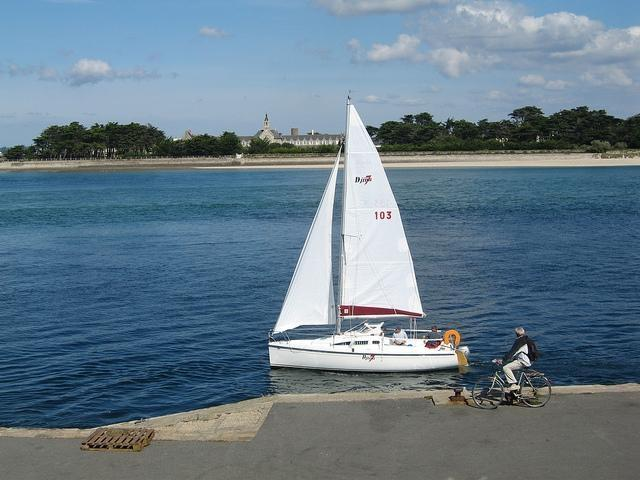bicycle: (473, 358, 552, 410)
